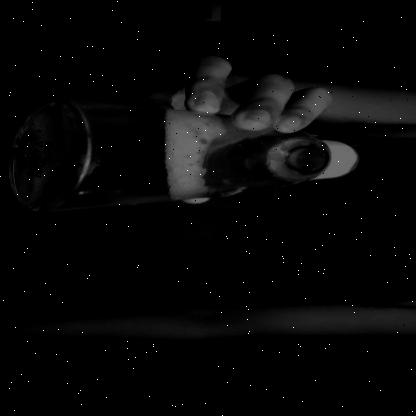Plastic Bottle: (9, 97, 362, 215)
